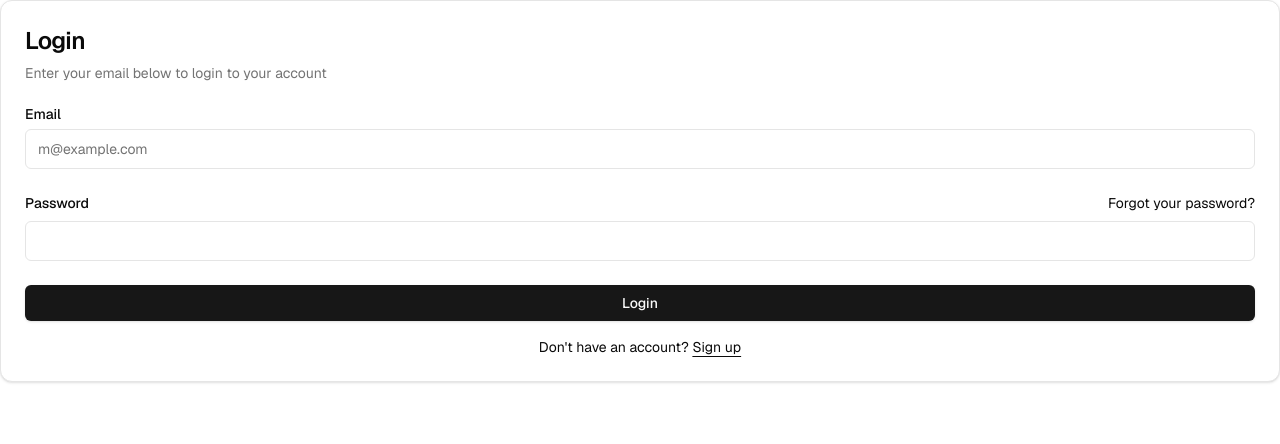
LoginForm Component › should display error on failed login
This screenshot has width=1280, height=444.
In the field labelled "Email": (640, 149) [25,129,1255,169], type "test@example.com"
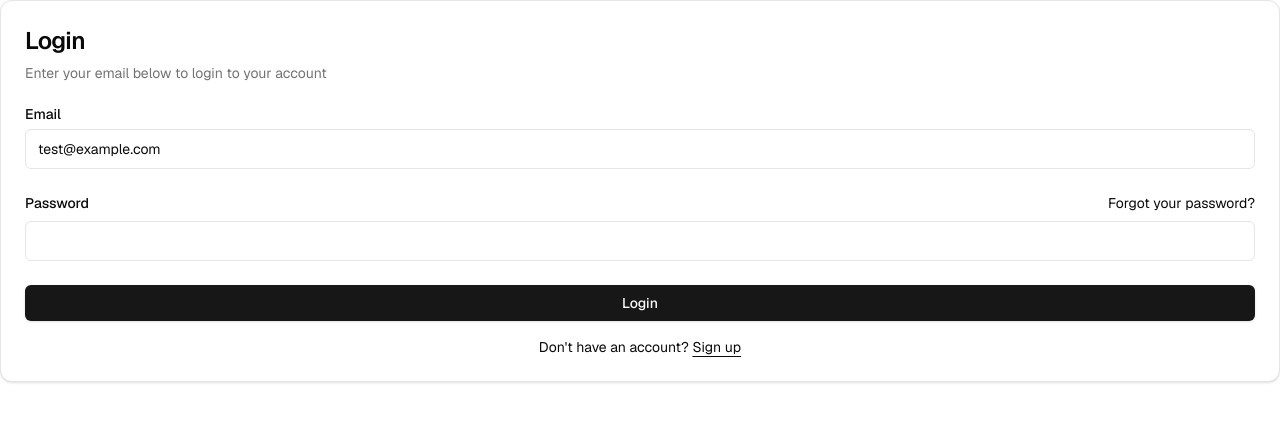
In the password field labelled "Password": (640, 241) [25,221,1255,261], type "password123"
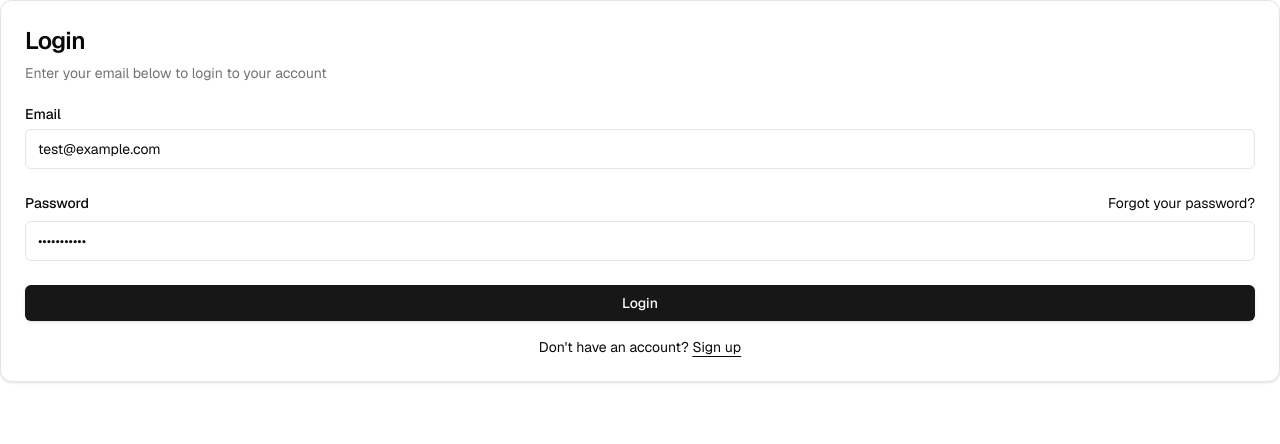
Click the button "Login": (640, 303) [25,285,1255,321]
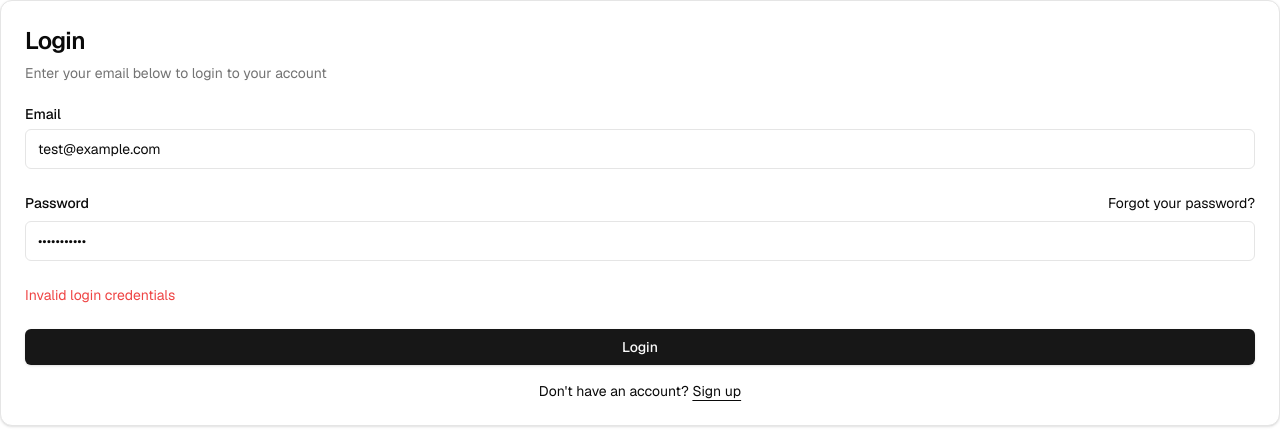
Expected: the text "Invalid login credentials" is shown, [25,286,175,304]
